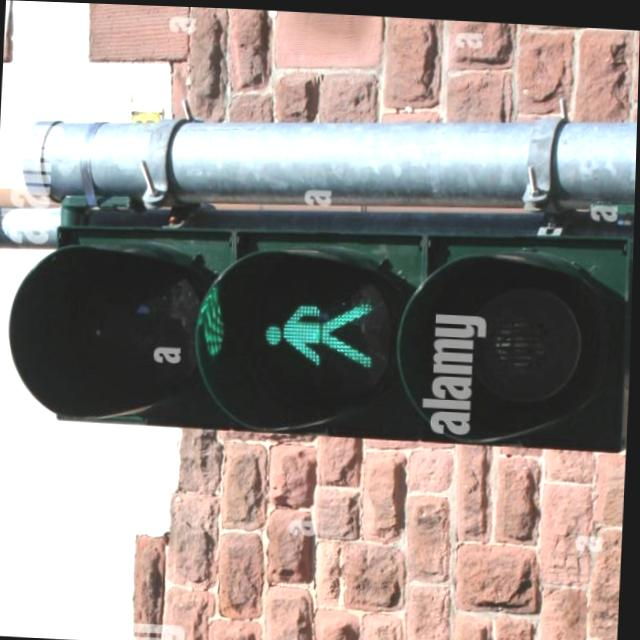green_light: (248, 272, 390, 393)
